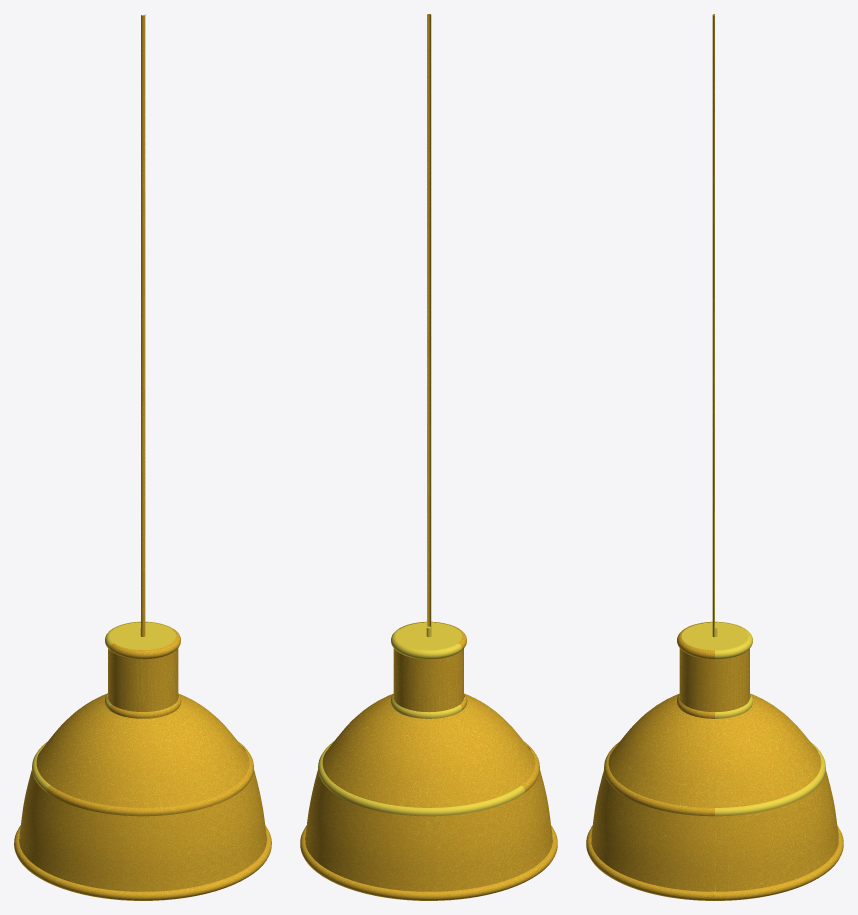
3 renders of one model, left to right at view 1: azimuth 30°, elevation 25°; view 2: azimuth 150°, elevation 25°; view 3: azimuth 270°, elevation 25°, orthographic.
Parts seen in each view (by area): view 1: unfold_pSphere2, unfold_pSphere1, unfold_pPipe1, unfold_________18, unfold_polySurface6, unfold_polySurface5, unfold_pCylinder1, unfold_polySurface4, unfold_________24; view 2: unfold_pSphere2, unfold_pSphere1, unfold_pPipe1, unfold_________18, unfold_polySurface6, unfold_polySurface5, unfold_pCylinder1, unfold_polySurface4, unfold_________11; view 3: unfold_pSphere2, unfold_pSphere1, unfold_pPipe1, unfold_polySurface6 (×2), unfold_polySurface5 (×2), unfold_________18, unfold_pCylinder1.
Part boxes in pixels (<box>): unfold_pSphere2: <box>19,770,266,891</box>; unfold_pSphere1: <box>36,694,249,807</box>; unfold_pPipe1: <box>108,648,178,711</box>; unfold_________18: <box>141,14,145,636</box>; unfold_polySurface6: <box>31,825,271,900</box>; unfold_polySurface5: <box>47,741,253,816</box>; unfold_pCylinder1: <box>109,622,176,649</box>; unfold_polySurface4: <box>110,629,180,659</box>; unfold_________24: <box>110,693,181,718</box>; unfold_pSphere2: <box>305,770,552,891</box>; unfold_pSphere1: <box>322,694,535,807</box>; unfold_pPipe1: <box>393,648,463,712</box>; unfold_________18: <box>427,14,431,636</box>; unfold_polySurface6: <box>300,826,540,900</box>; unfold_polySurface5: <box>318,741,524,816</box>; unfold_pCylinder1: <box>395,622,462,650</box>; unfold_polySurface4: <box>391,629,461,659</box>; unfold_________11: <box>390,694,461,718</box>; unfold_pSphere2: <box>591,769,838,891</box>; unfold_pSphere1: <box>608,694,821,807</box>; unfold_pPipe1: <box>679,648,749,712</box>; unfold_polySurface6 (×2): <box>586,826,843,900</box>; unfold_polySurface5 (×2): <box>604,742,825,816</box>; unfold_________18: <box>712,14,714,636</box>; unfold_pCylinder1: <box>681,622,748,650</box>.
Size of the model in its own units: 12.63 by 12.63 by 45.08.
3 materials, 1 textured.
